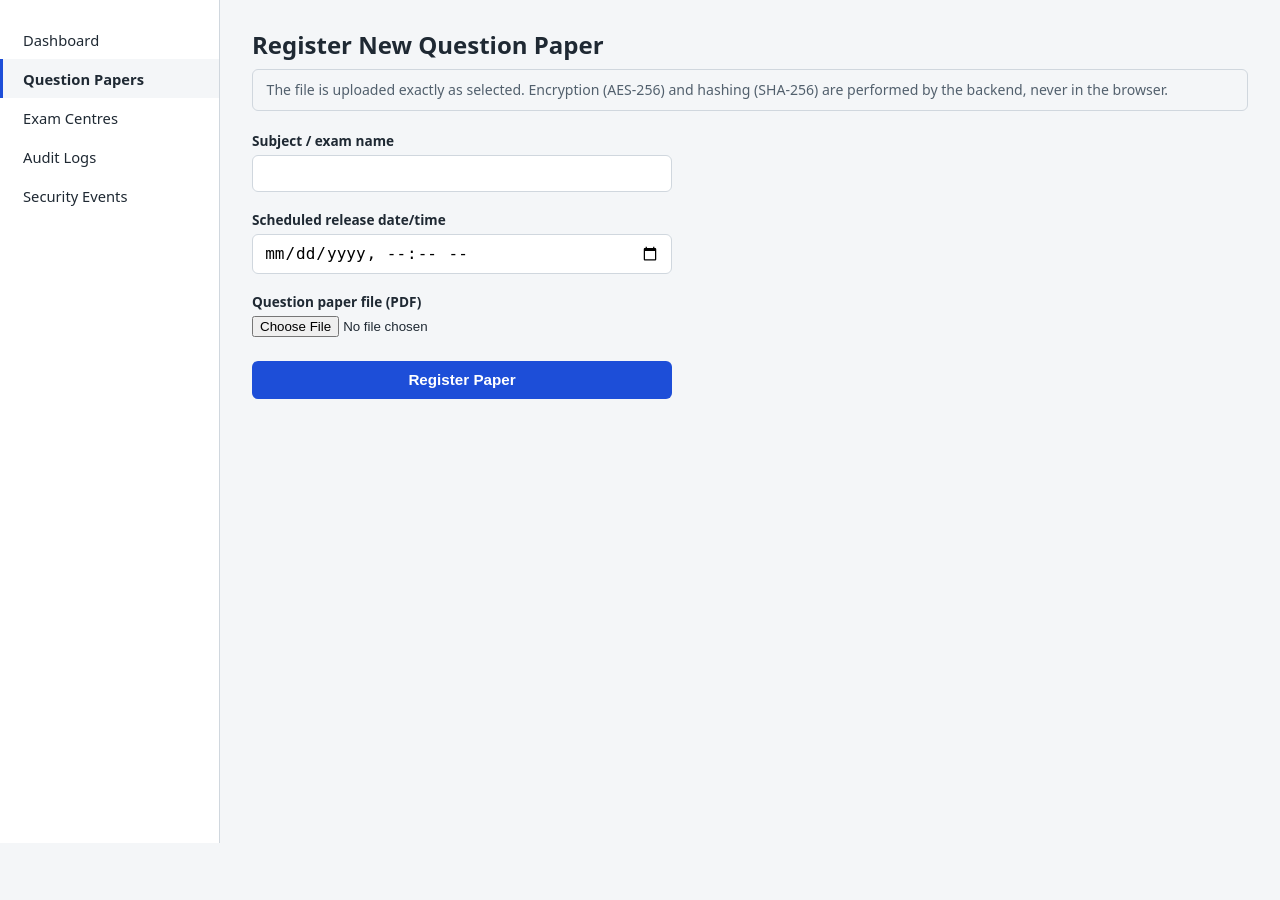
Test case: Admin Portal — Paper Upload › shows a validation error when required fields are missing
Click the button "Register Paper".
click(462, 380)  # box [252, 360, 672, 399]
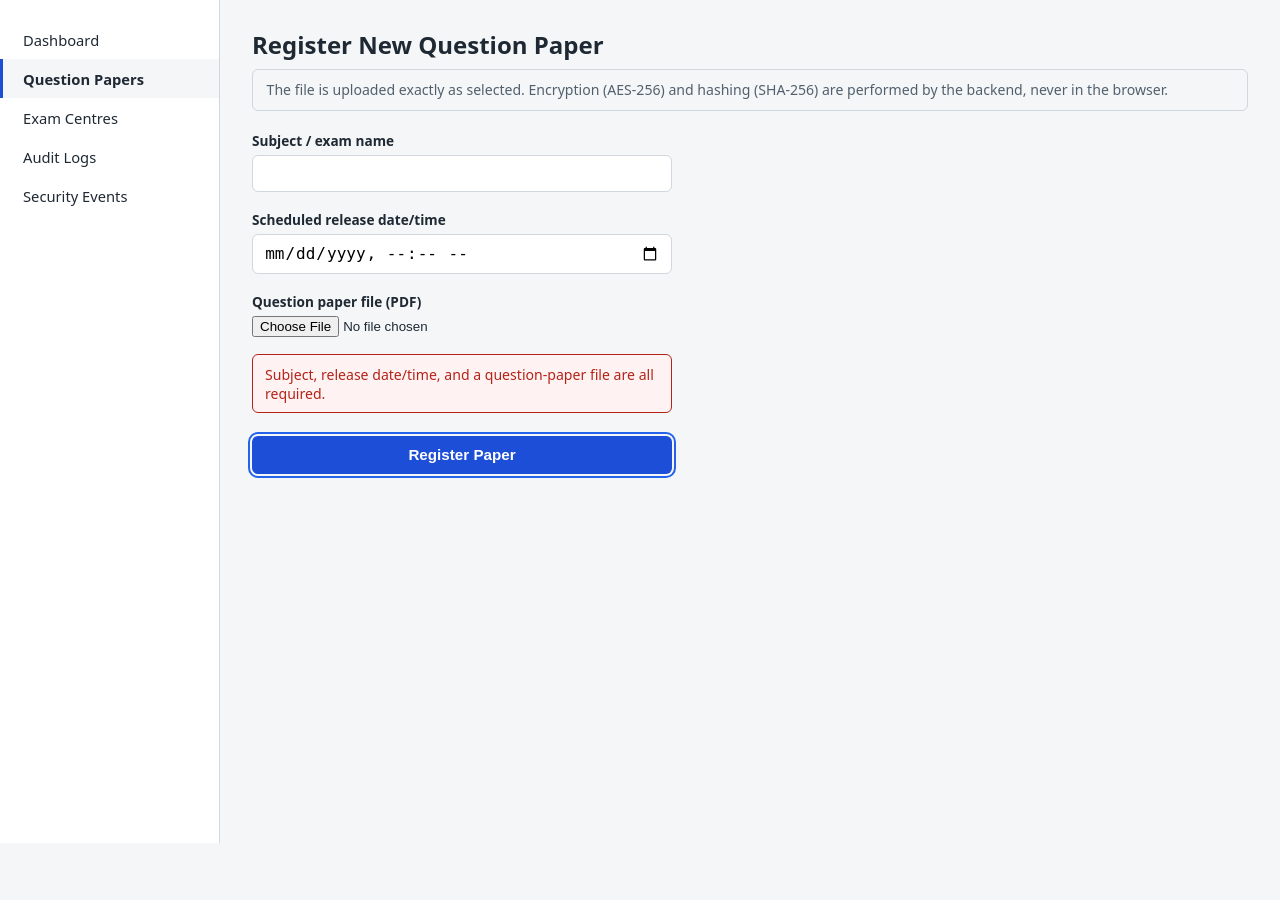
Check: the text "Subject, release date/time, and a question-paper file are all required." is shown, box [252, 354, 672, 413]
